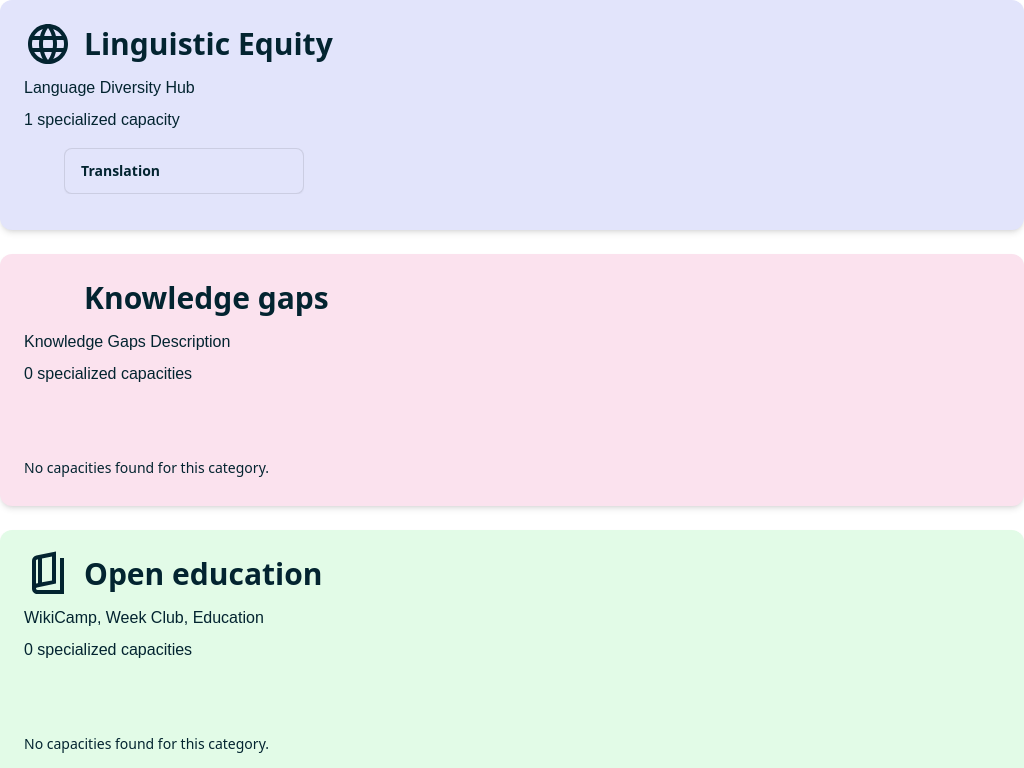
Test: CapacityCategories › CapacityInfoPanel › shows "Added to Known" state when capacity is already in known list
The image size is (1024, 768).
Click the button "Translation" at (184, 171), box [64,148,304,194]
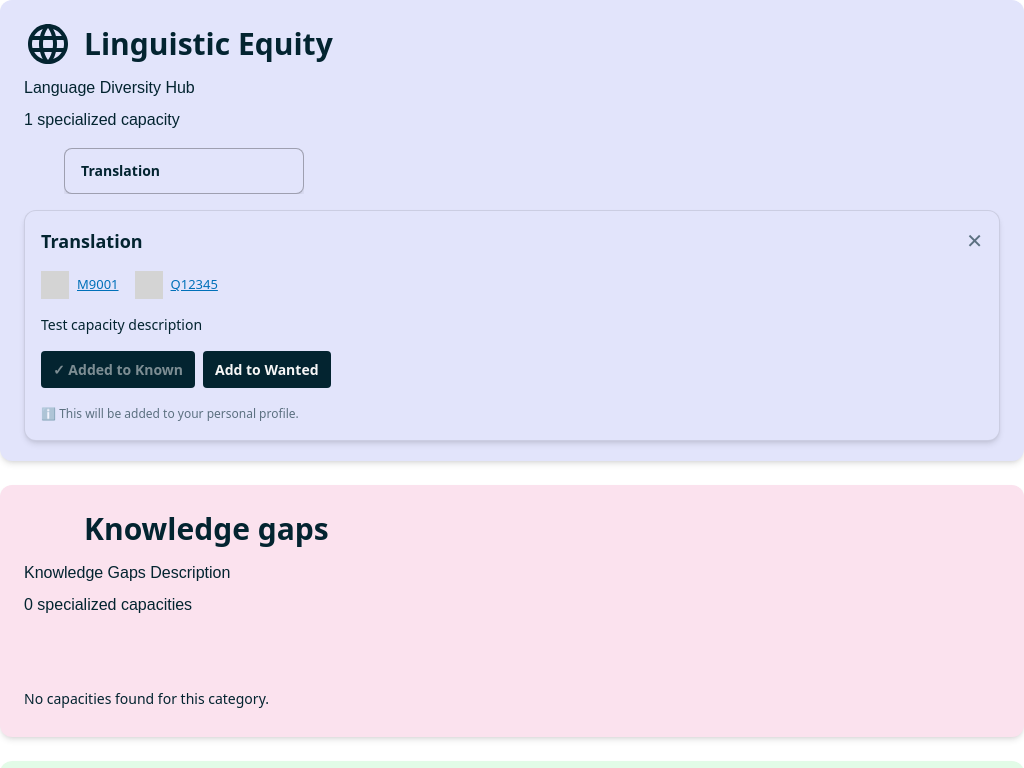
Now the text "✓ Added to Known" is shown, box [53,359,183,380]
